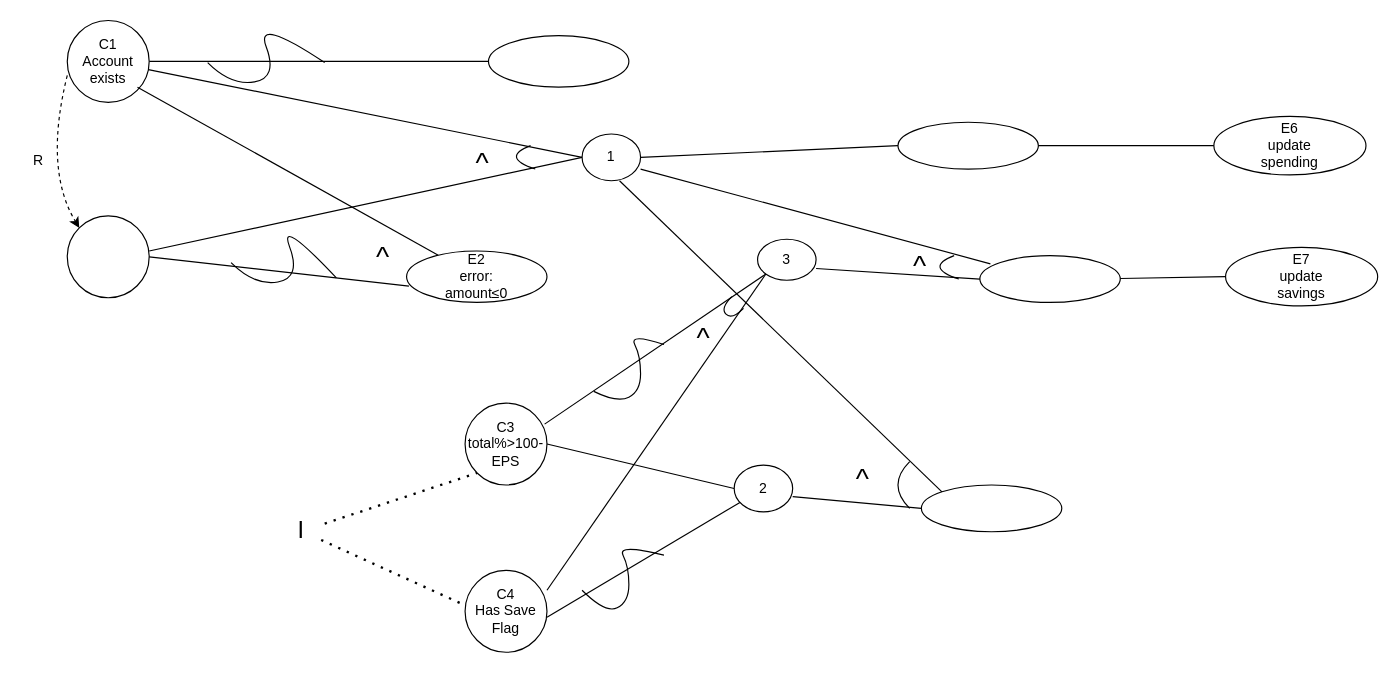
This 1398x673 diagram has some shape labels left out. Here are the shapes that lost their labels. From the top down, the box of each, then its label:
(487, 35, 629, 87): E1 error: no account
(897, 121, 1038, 169): E3 distributing...
(66, 215, 149, 298): C2 amount>0
(979, 254, 1120, 302): E5 savings msg
(920, 484, 1062, 532): E4 no savings msg
